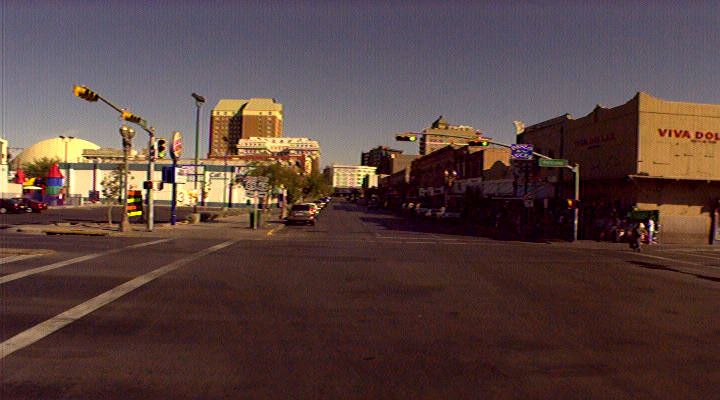Ramp: (143, 226, 275, 244), (576, 237, 685, 256)
